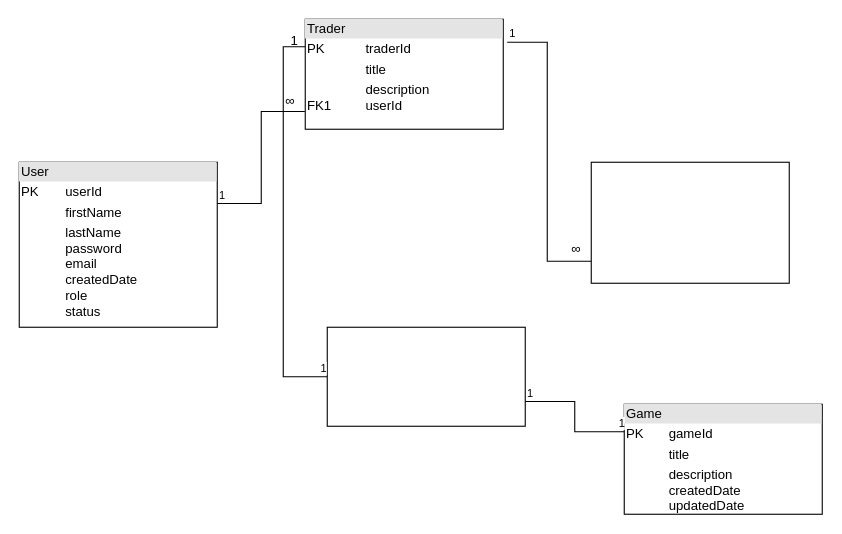
Image size: 842x534. Some labels were removed from this diagram. Each missing label, with the box of its shape:
Comment PK commentId message FK2 createdDate status traderId: (590, 161, 789, 283)
Trader_Game PK traderGameId FK1 traderId FK2 gameId: (326, 326, 525, 426)
